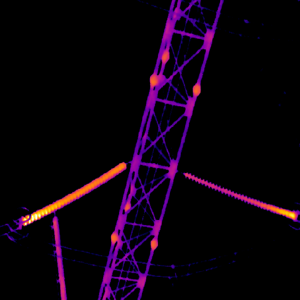insulator: (19, 161, 126, 226), (183, 170, 298, 220)
